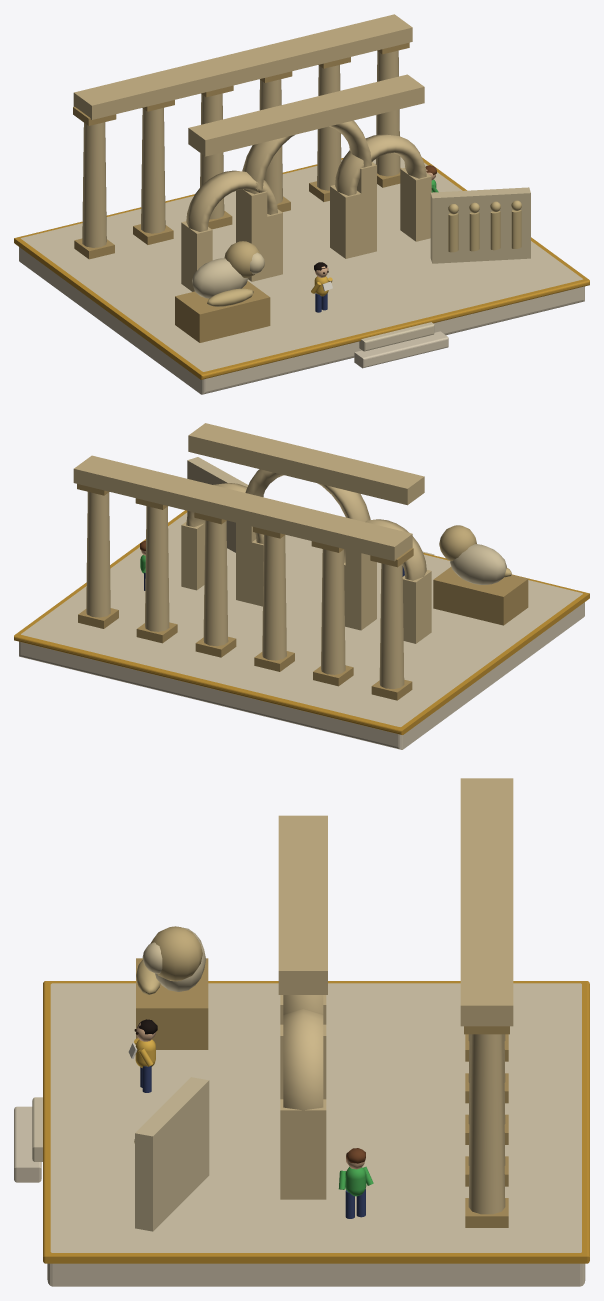
File: palmyra.glb
3 renders of one model, top to bottom at view 1: azimuth 30°, elevation 25°; view 2: azimuth 150°, elevation 25°; view 3: azimuth 270°, elevation 25°, orthographic. The views are drawn at different scales.
Parts seen in each view (by area): view 1: part_000; view 2: part_000; view 3: part_000.
Part boxes in pixels (x1=…): part_000: x1=14, y1=14, x2=589, y2=394; part_000: x1=14, y1=423, x2=589, y2=749; part_000: x1=14, y1=778, x2=589, y2=1286.
Bounding box in the file's own units: 9.94 × 4.38 × 8.78.
